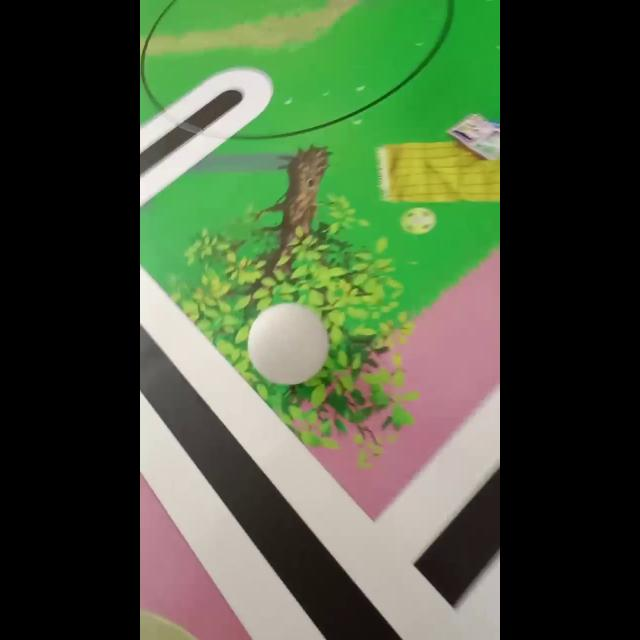white ball: (246, 302, 330, 386)
